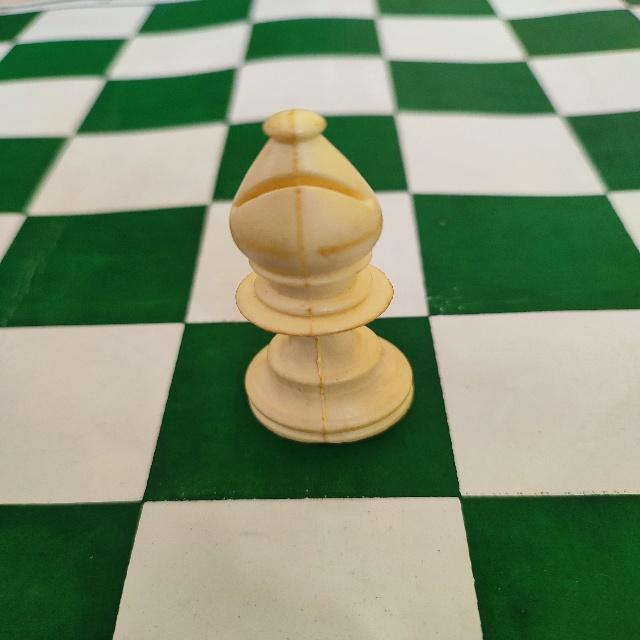Bishop: (222, 104, 419, 449)
